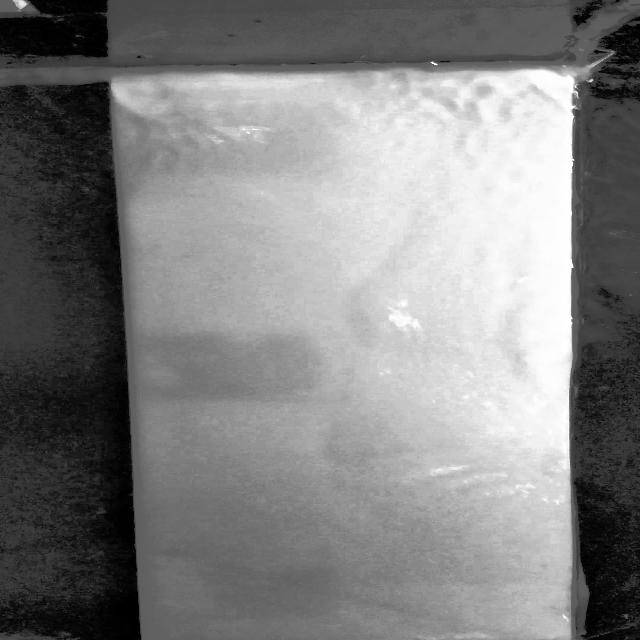shrimp: (158, 546, 190, 558)
